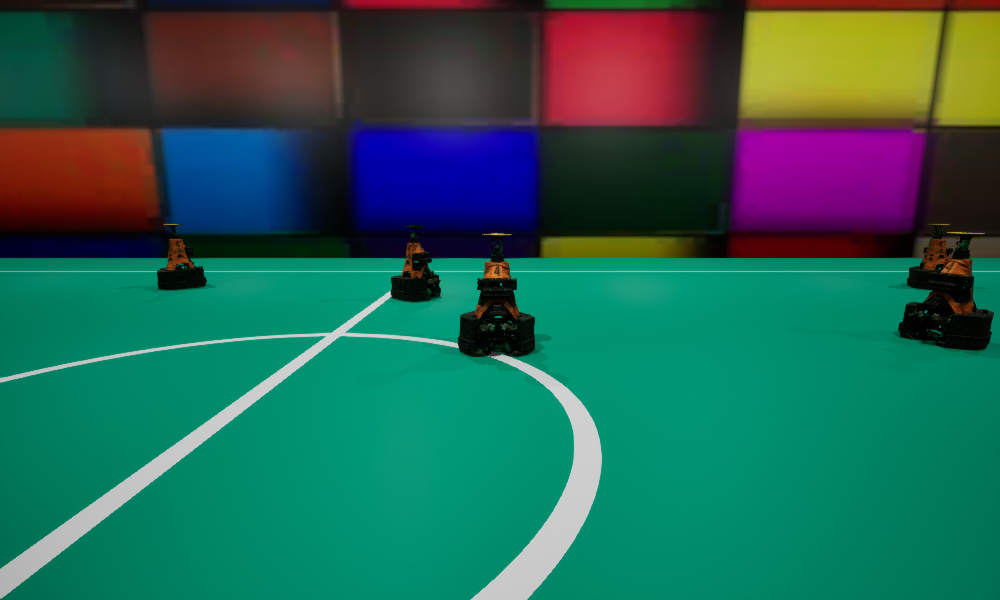0 orange robot TechUnited: (898, 232, 993, 349), (458, 233, 534, 356), (391, 225, 440, 301), (157, 224, 206, 289), (907, 224, 952, 289)
